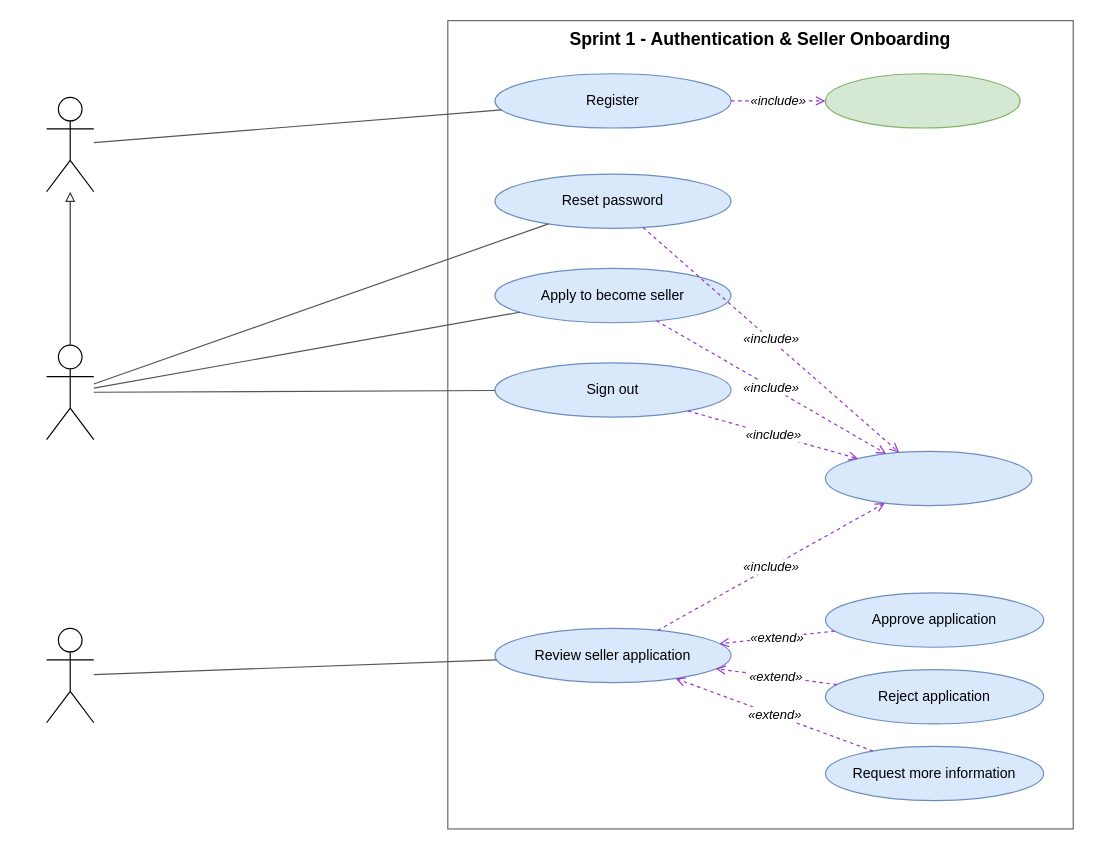
This 1094x850 diagram has some shape labels left out. Each missing label, with the centre of its shape:
"Administrator" goes at [69,675].
"Customer" goes at [69,392].
"Sign in" goes at [928,478].
"Verify email" goes at [922,100].
"Visitor" goes at [69,144].
